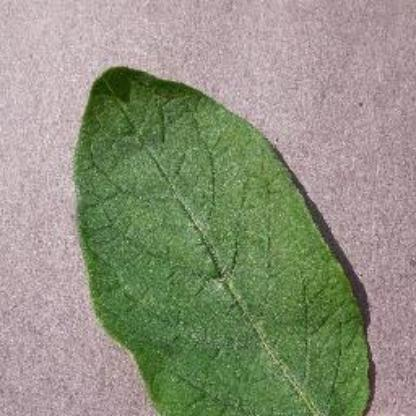Healthy-plant: (48, 53, 384, 415)
